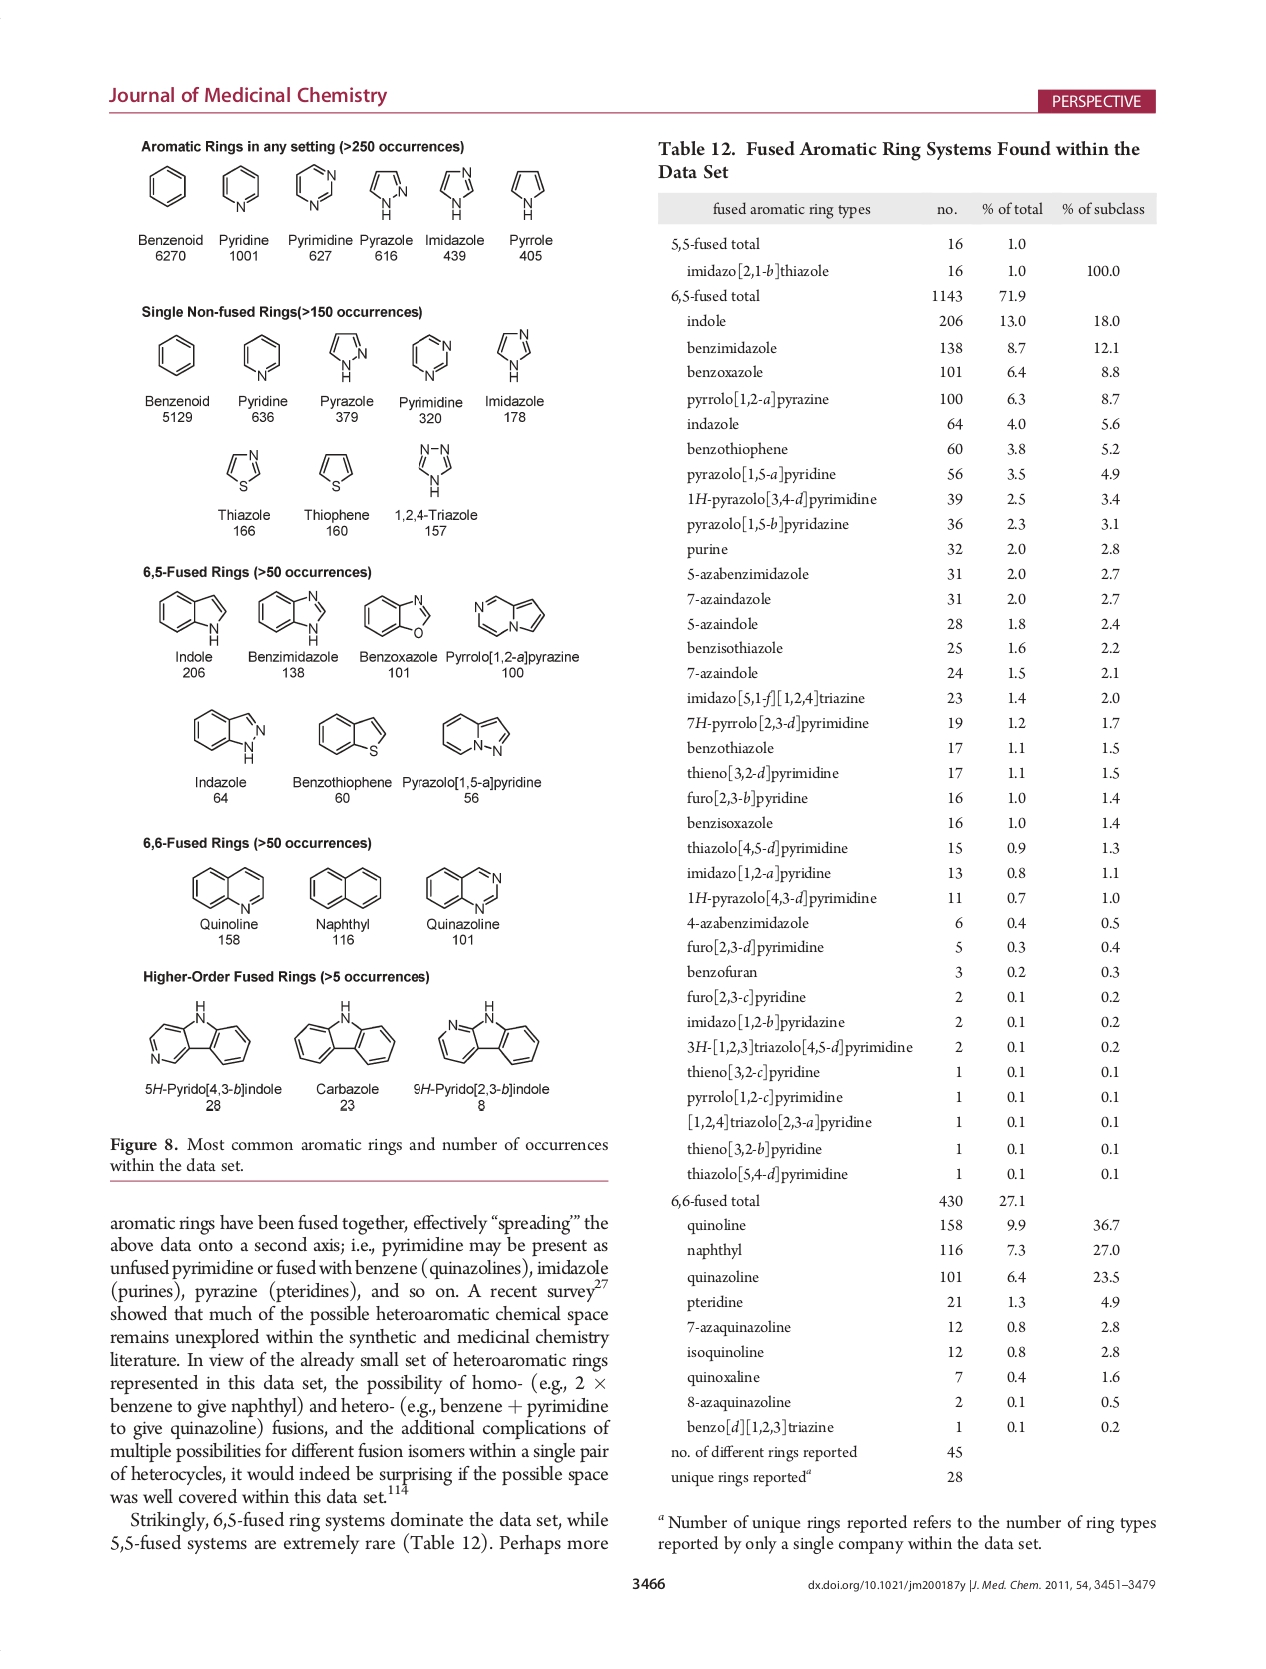exist_molecular: (434, 997, 543, 1071), (145, 997, 253, 1068), (293, 997, 398, 1068), (188, 704, 269, 765), (156, 586, 227, 649), (315, 706, 395, 762), (423, 862, 504, 916), (186, 860, 267, 915), (257, 586, 327, 646), (305, 863, 384, 914), (356, 586, 434, 638), (436, 707, 511, 758), (469, 590, 547, 638), (322, 324, 370, 384), (290, 160, 340, 215), (366, 165, 410, 223), (436, 161, 476, 223), (408, 328, 452, 384), (505, 165, 547, 223), (222, 442, 266, 495), (237, 331, 283, 380), (152, 328, 198, 378), (416, 440, 453, 501), (219, 161, 262, 214), (492, 326, 531, 384), (146, 161, 190, 210), (316, 446, 354, 493)
